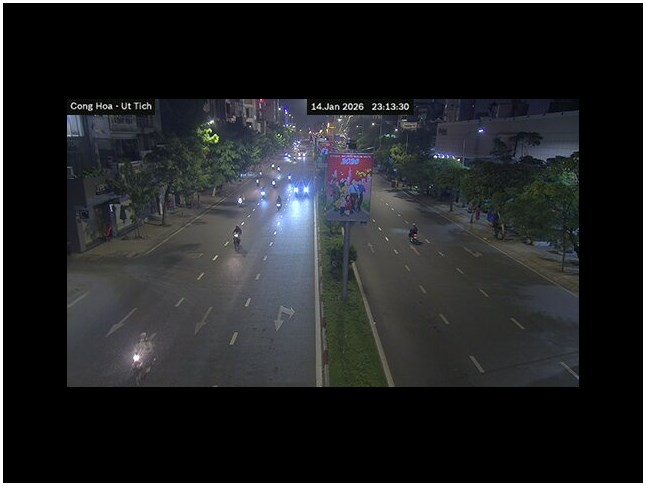car: (292, 178, 309, 197)
motorbike: (128, 332, 157, 385), (406, 220, 420, 244), (229, 227, 243, 243), (235, 192, 245, 208), (259, 187, 267, 199), (276, 196, 282, 209)
